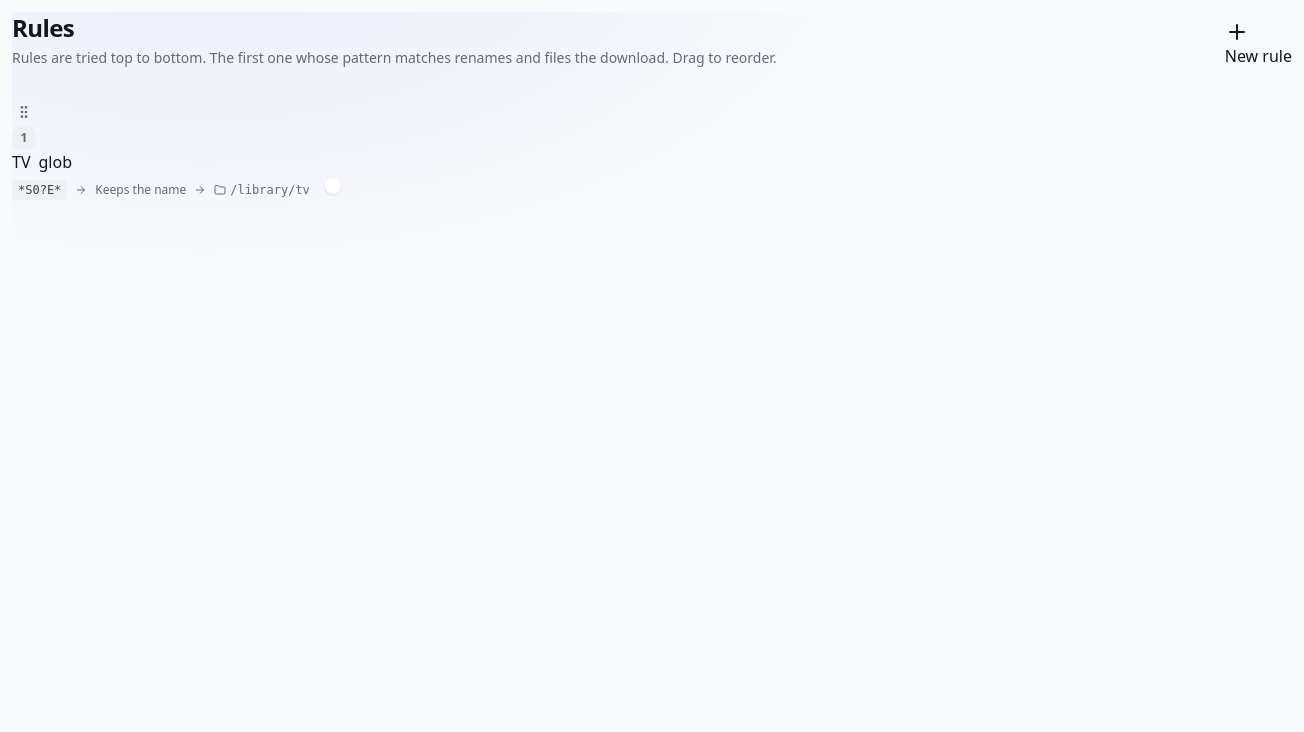
it: RulesPage › turns off an enabled rule
Expected: the element with test id "signed-in" is shown, [12, 12, 1292, 200]
Click the switch named "Enable TV". click: (318, 186)
box: [310, 178, 326, 194]
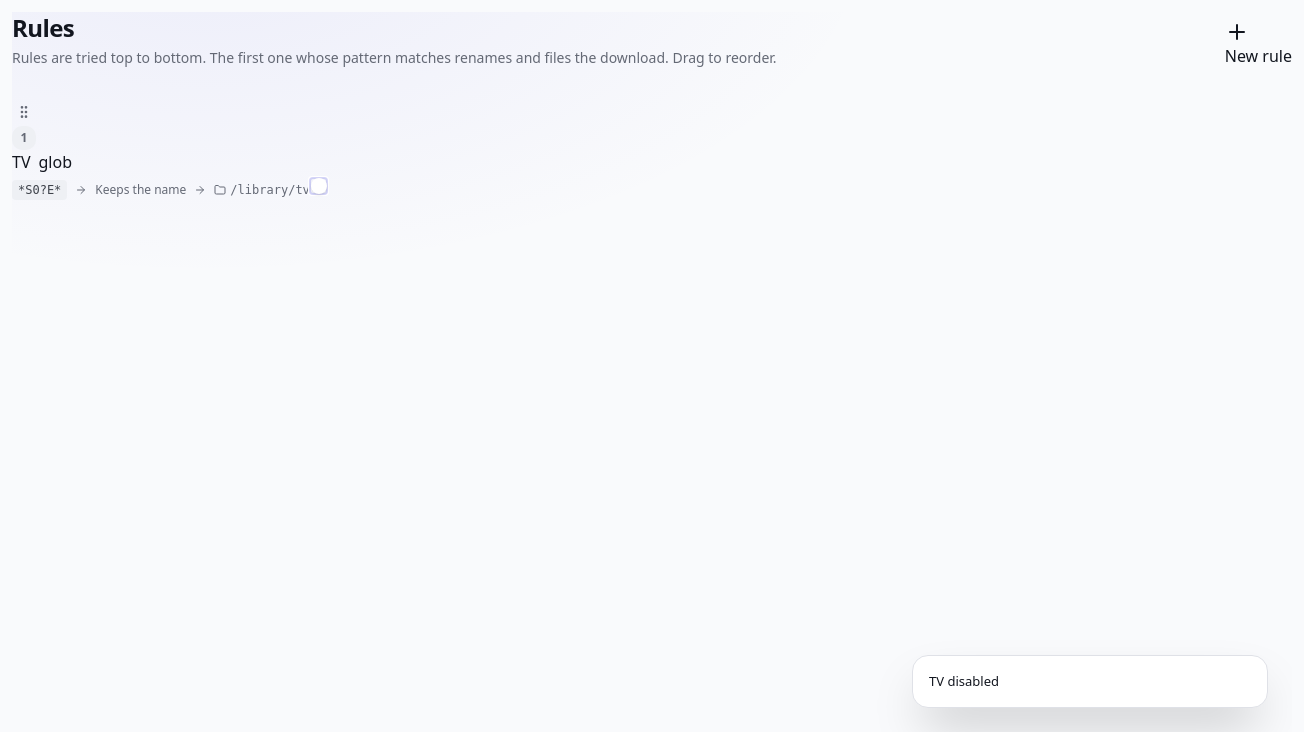
Result: the text "TV disabled" is shown at [929, 672, 999, 691]
